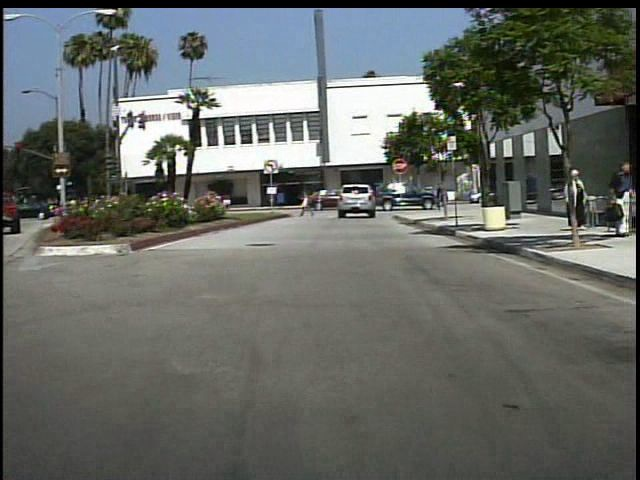person: (609, 160, 634, 240), (564, 170, 592, 231), (433, 179, 456, 214), (303, 186, 320, 219)
